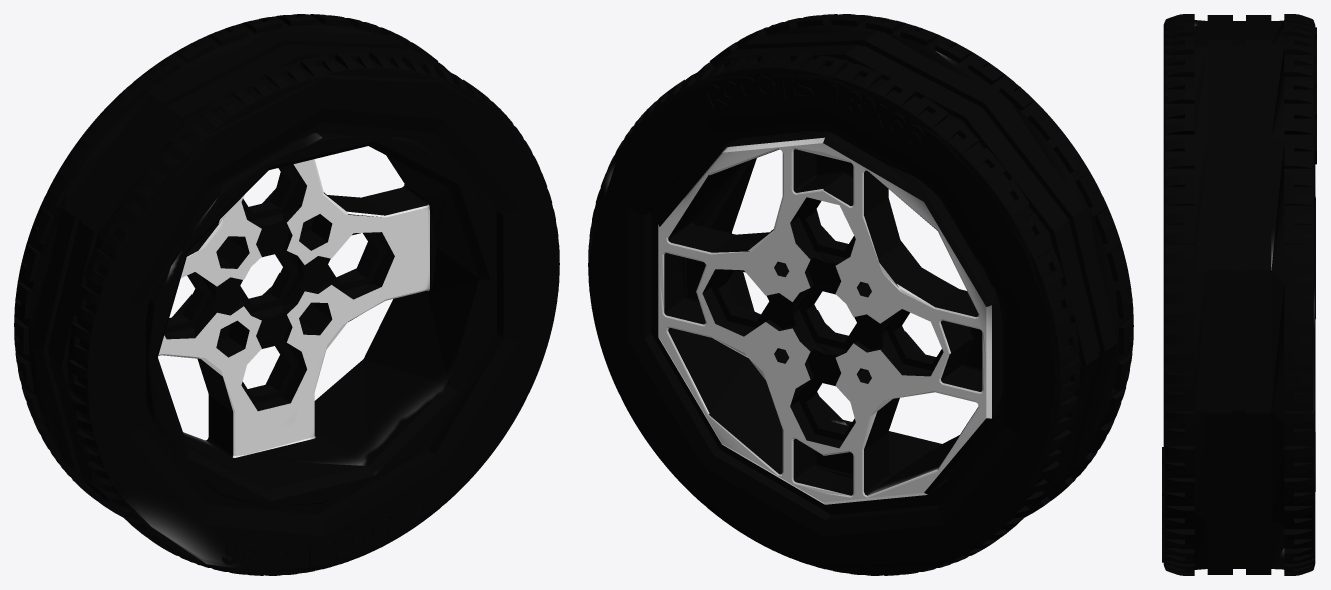
Rendered from right_tire_text.dae.
The picture shows the model from 3 angles, left to right: view 1: azimuth 30°, elevation 25°; view 2: azimuth 150°, elevation 25°; view 3: azimuth 270°, elevation 25°; orthographic projection.
Visible parts, largest first — view 1: right_tire; view 2: right_tire; view 3: right_tire.
Boxes of the visible parts, x1,y1,x2,y2 form: right_tire: (14, 14, 559, 575); right_tire: (588, 14, 1133, 575); right_tire: (1162, 14, 1316, 575).
Bounding box in the file's own units: 0.066 × 0.0182 × 0.066.
Materials: 1 (1 with a texture image).
